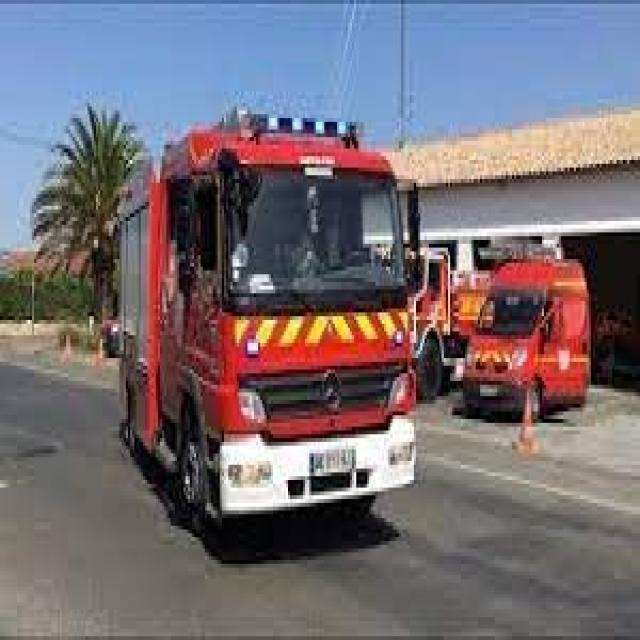pompier: (115, 104, 419, 549)
